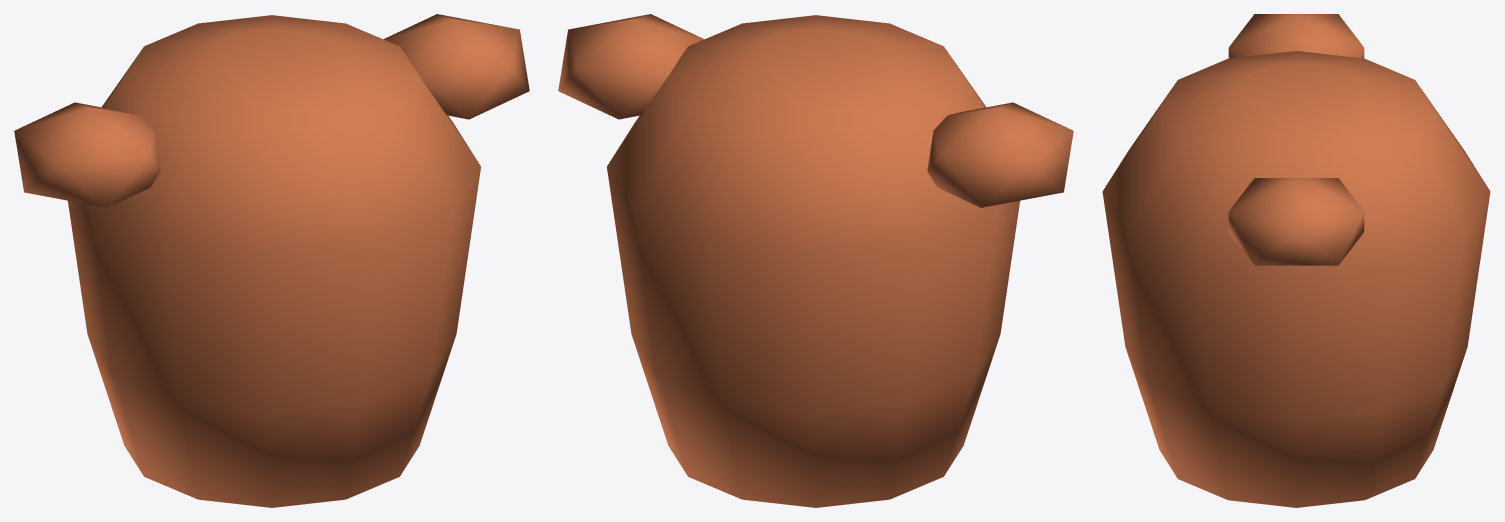
The model's file is palladium_chainmail.glb.
3 renders of one model, left to right at view 1: azimuth 30°, elevation 25°; view 2: azimuth 150°, elevation 25°; view 3: azimuth 270°, elevation 25°, orthographic. The views are drawn at different scales.
Parts seen in each view (by area): view 1: palladium_chainmail_v0; view 2: palladium_chainmail_v0; view 3: palladium_chainmail_v0.
Part boxes in pixels (x1=…): palladium_chainmail_v0: x1=14, y1=14, x2=529, y2=507; palladium_chainmail_v0: x1=558, y1=14, x2=1073, y2=507; palladium_chainmail_v0: x1=1102, y1=14, x2=1490, y2=507.
Size of the model in its own units: 0.4652 by 0.35 by 0.34.
